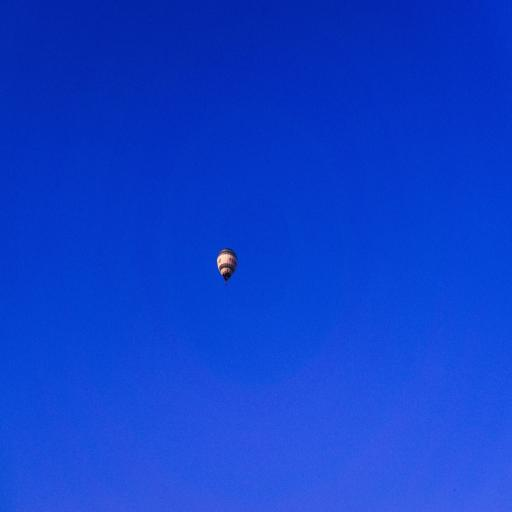hot air ballon: (217, 248, 238, 285)
